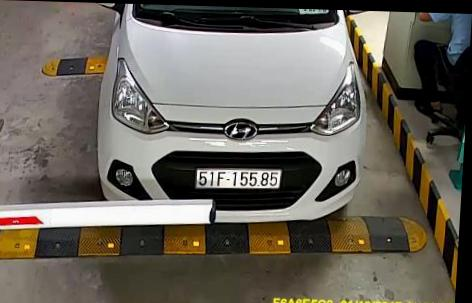License_Plate: (194, 165, 287, 193)
